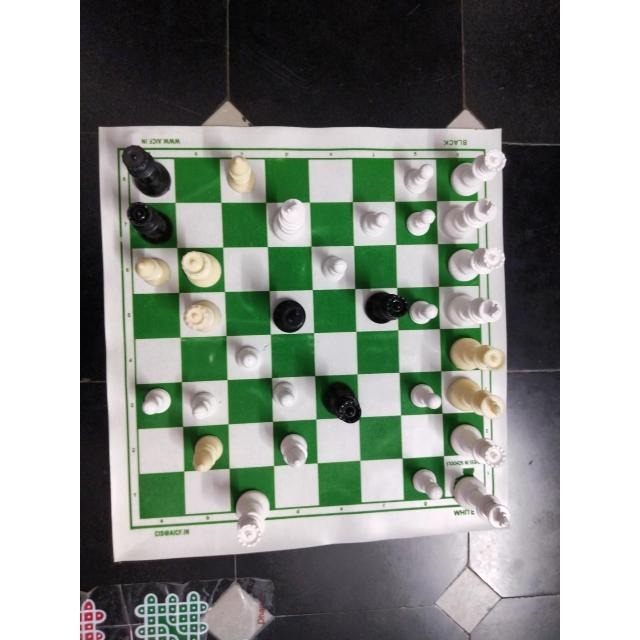black-king: (272, 293, 314, 337)
black-queen: (120, 140, 173, 200), (120, 202, 178, 248), (318, 376, 366, 426), (360, 290, 410, 329)
white-bishop: (186, 433, 229, 479), (220, 155, 261, 199), (273, 423, 312, 469), (131, 252, 176, 290)
white-king: (452, 472, 514, 532), (446, 374, 508, 422), (442, 290, 501, 330), (443, 199, 500, 239), (266, 199, 310, 243)
white-pawn: (397, 155, 436, 196), (404, 379, 446, 416), (409, 465, 446, 505), (185, 386, 226, 421), (400, 203, 438, 239), (316, 253, 352, 289), (405, 294, 441, 330), (229, 339, 267, 373), (136, 386, 175, 419), (270, 374, 302, 413), (356, 207, 391, 240)
white-queen: (447, 417, 505, 473), (445, 147, 505, 196), (446, 331, 507, 378), (230, 486, 274, 550), (443, 243, 504, 285), (177, 246, 223, 290), (179, 291, 227, 333)
